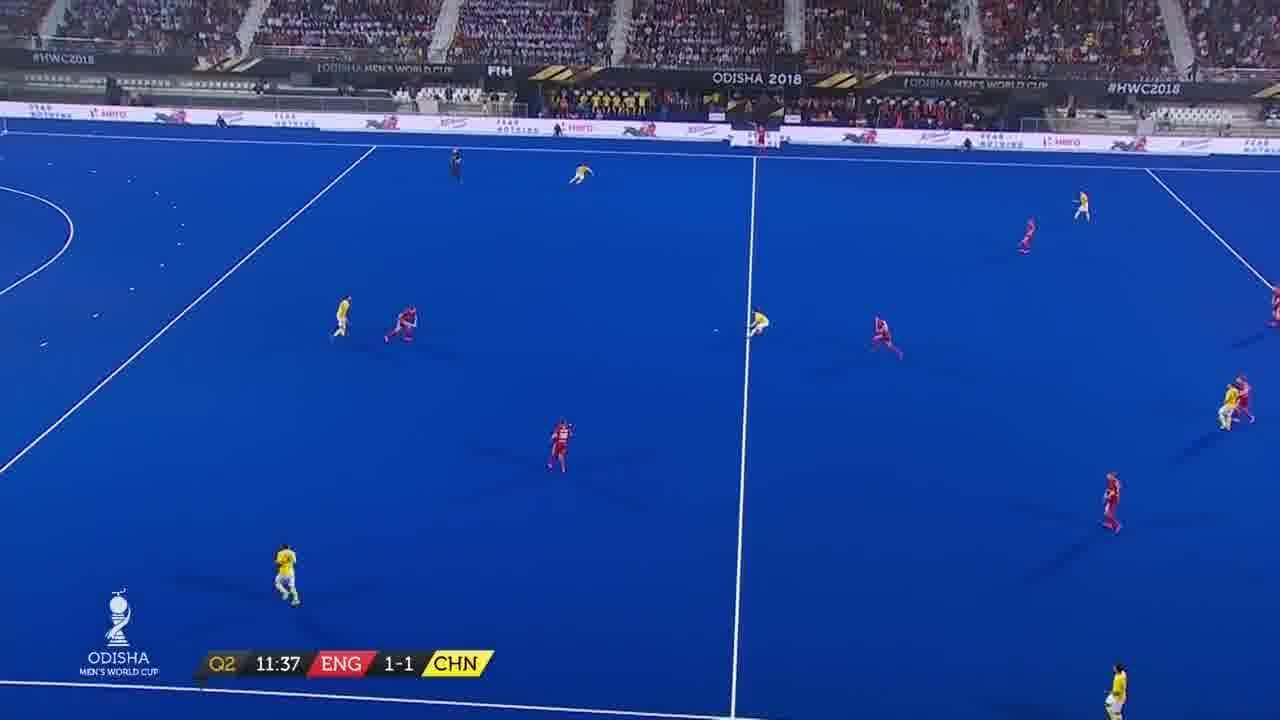ball: (711, 327, 720, 334)
